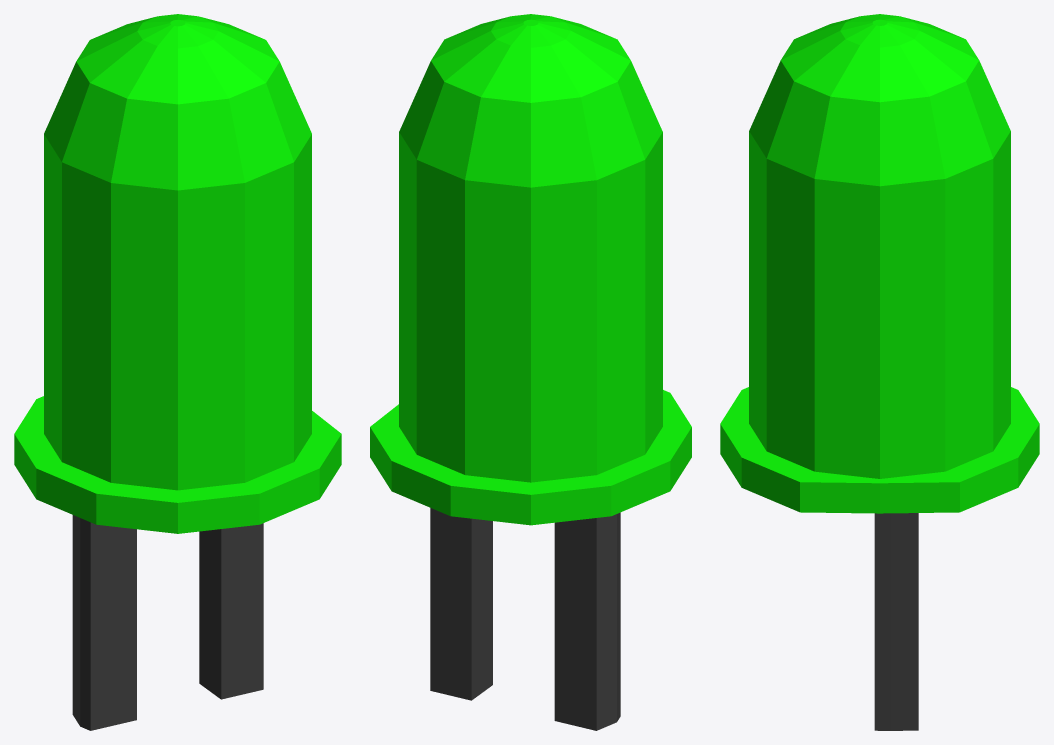
File: GreenLED.fbx
3 renders of one model, left to right at view 1: azimuth 30°, elevation 25°; view 2: azimuth 150°, elevation 25°; view 3: azimuth 270°, elevation 25°, orthographic. The views are drawn at different scales.
Visible parts, largest first — view 1: Cylinder; view 2: Cylinder; view 3: Cylinder.
Part boxes in pixels (bbox=[...]): Cylinder: bbox=[14, 14, 341, 730]; Cylinder: bbox=[370, 14, 691, 730]; Cylinder: bbox=[720, 14, 1039, 730].
Size of the model in its own units: 230 by 563 by 244.
